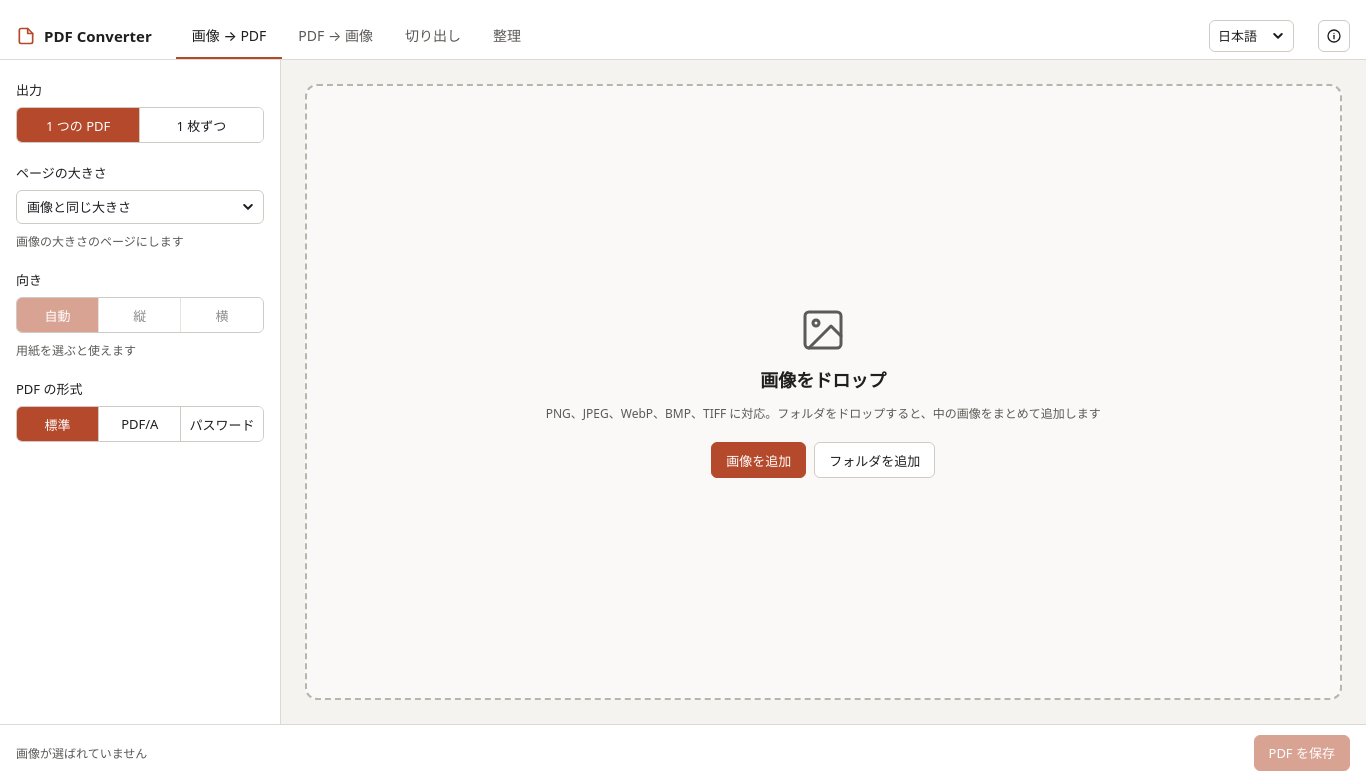
putting a drag down › Esc puts it down, keeps the selection, and goes no further
The width and height of the screenshot is (1366, 780).
Click the tab "整理": {"x": 507, "y": 36} [477,12,537,59]
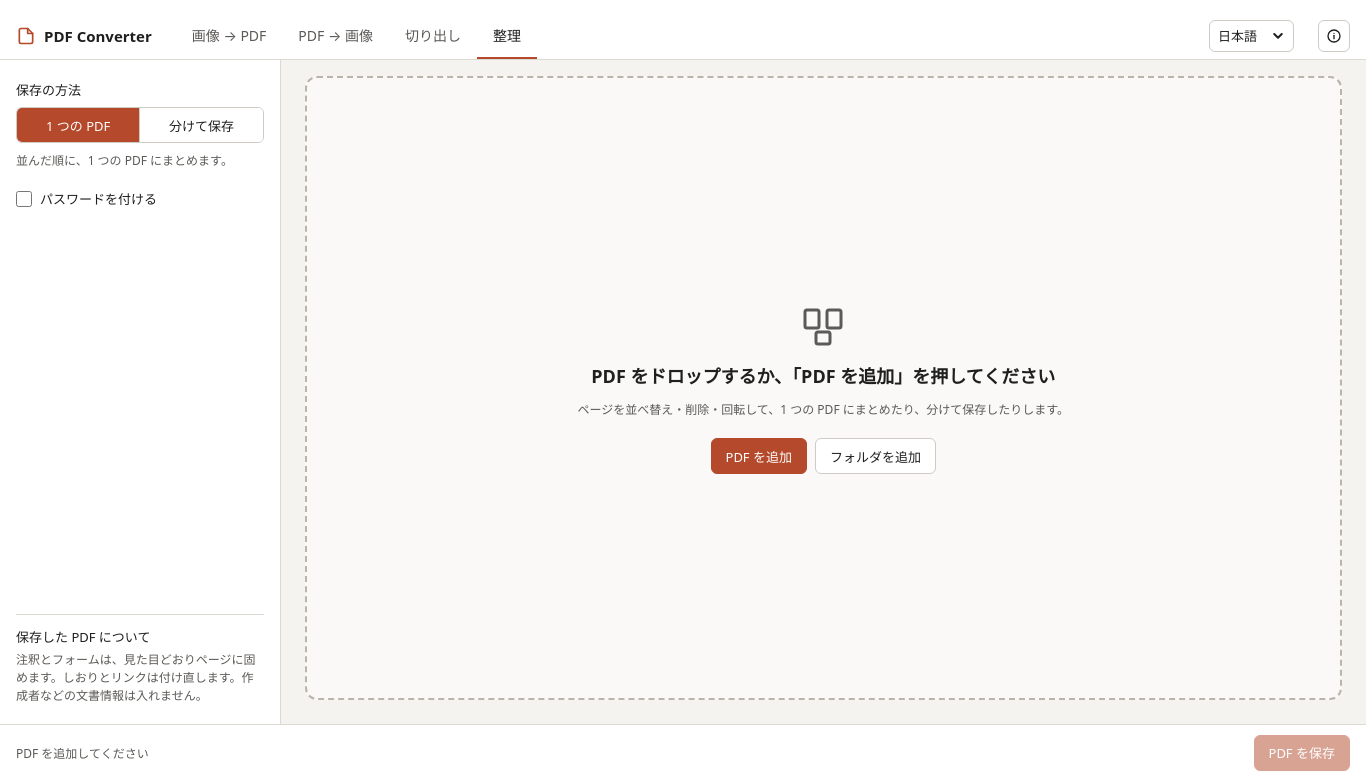
Click the button "PDF を追加": {"x": 759, "y": 456} [710,438,807,474]
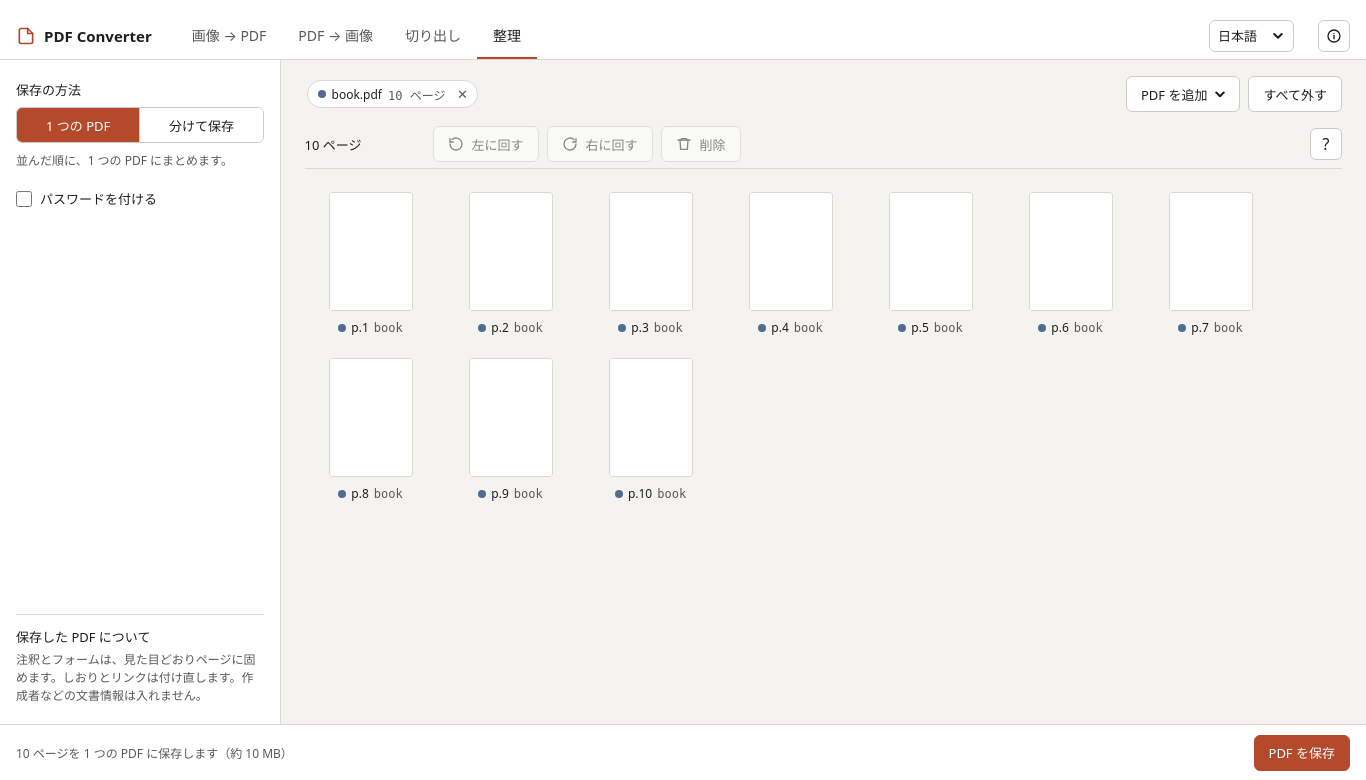
Press the mouse on the option "p.2 book": {"x": 510, "y": 264} [468,192,552,336]
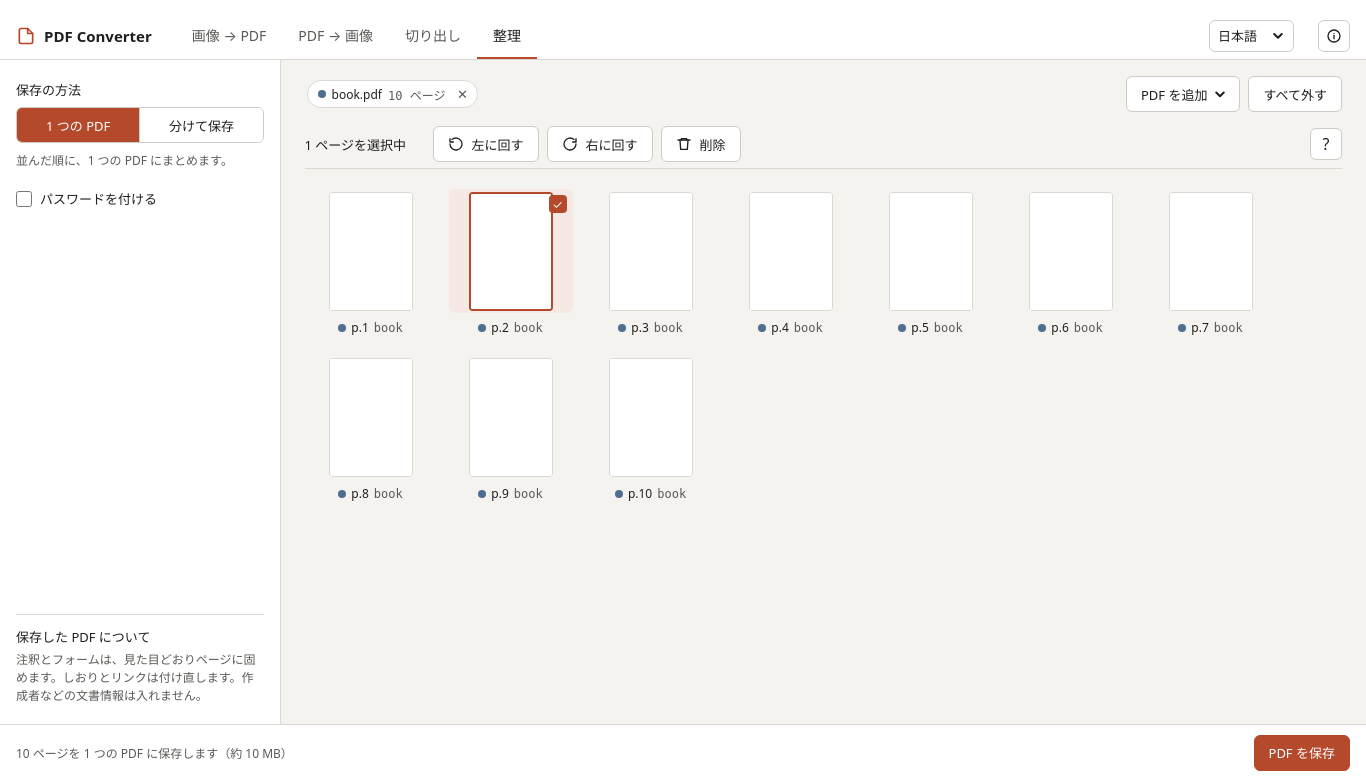
Press the mouse on the option "p.3 book": {"x": 650, "y": 264} [608,192,692,336]
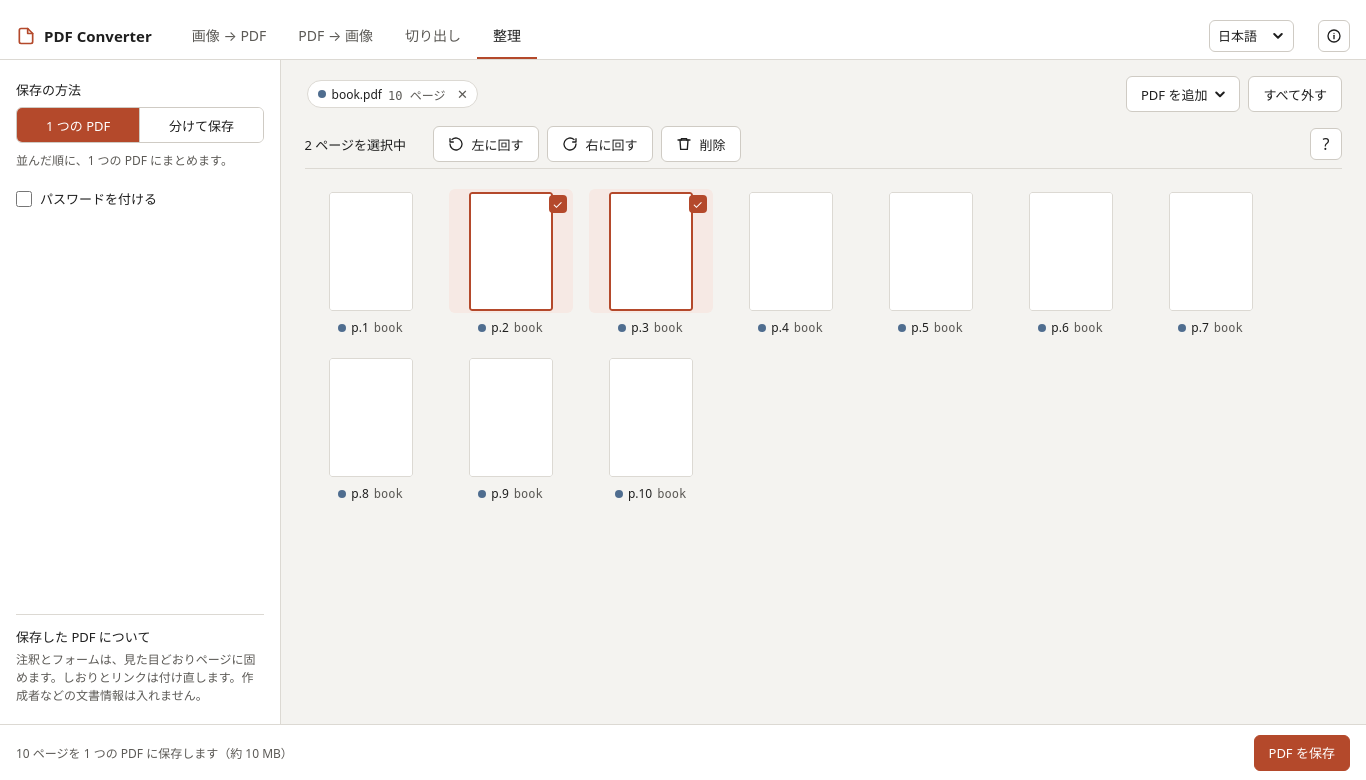
Press the mouse on the option "✓ p.2 book": {"x": 510, "y": 263} [448,189,572,337]
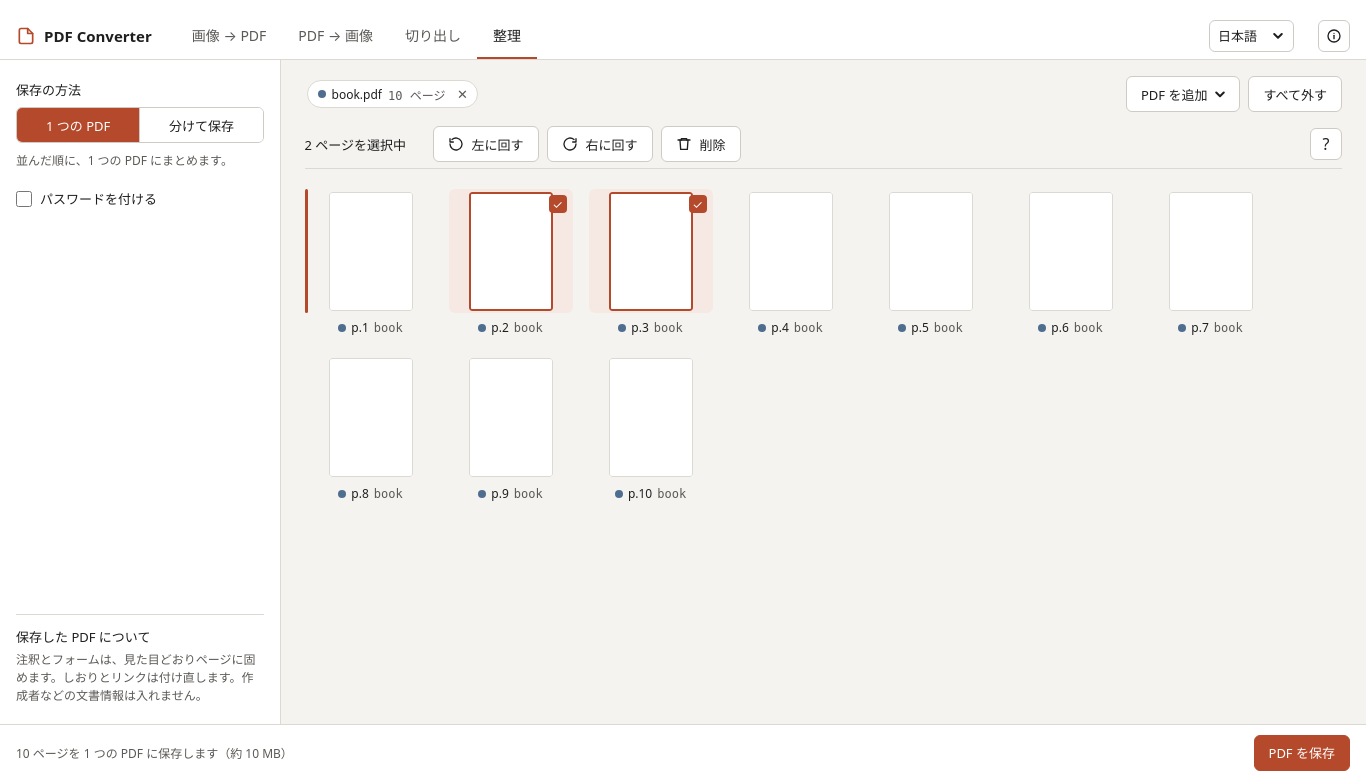
Expected: the element with class "organize-drop-line" is shown, [304,189,308,313]
Press Escape
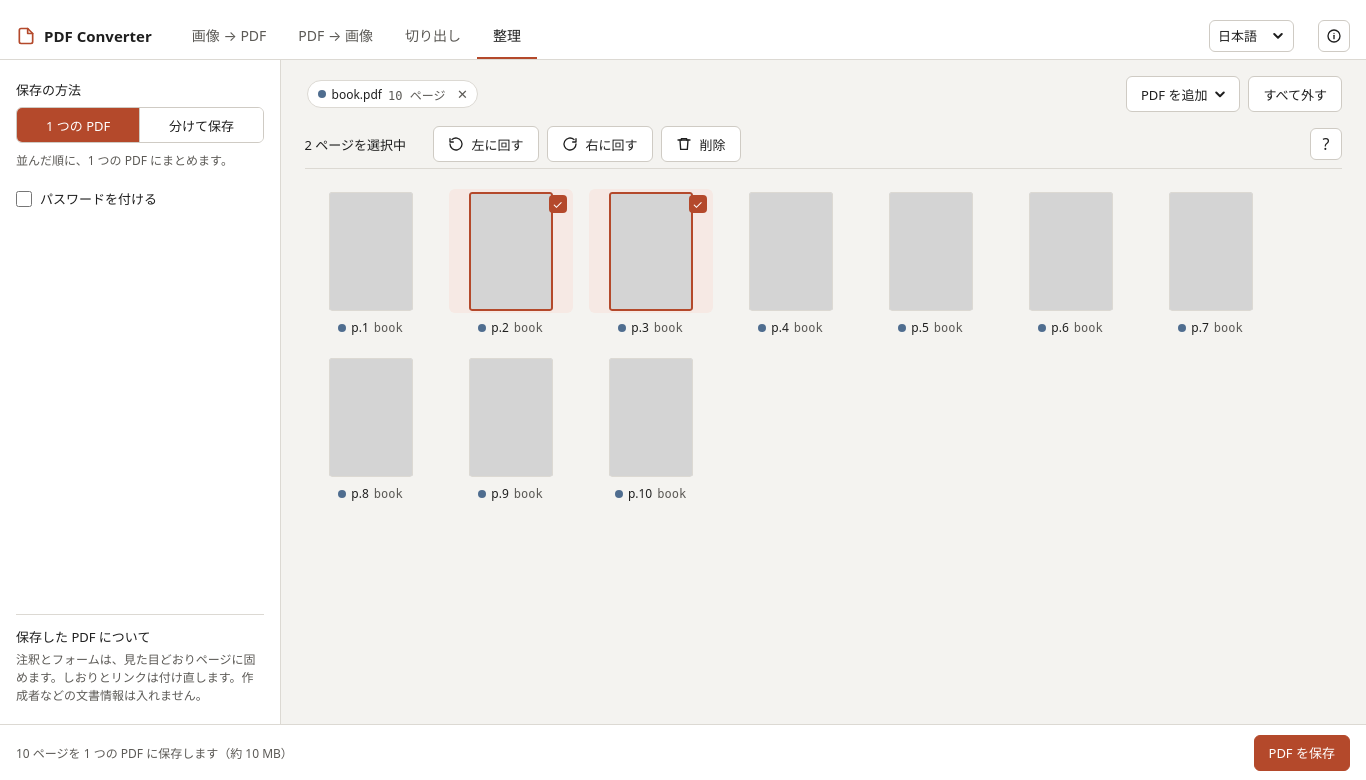
Expected: the element with class "organize-drop-line" is gone
